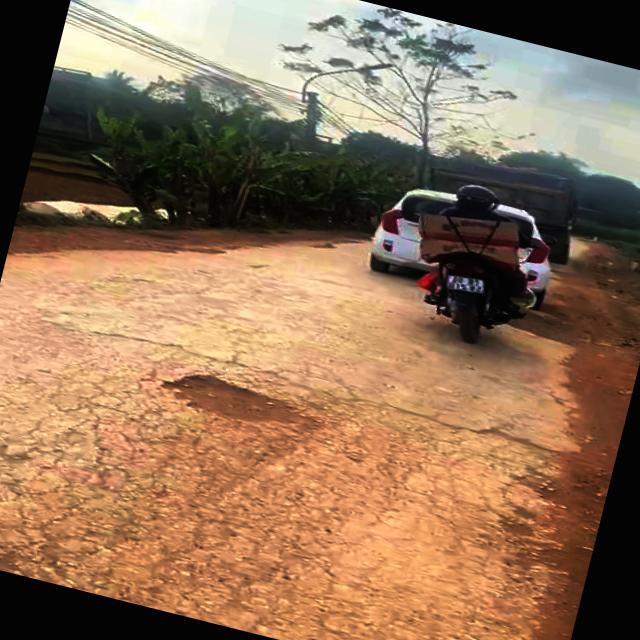pothole: (153, 359, 330, 444)
